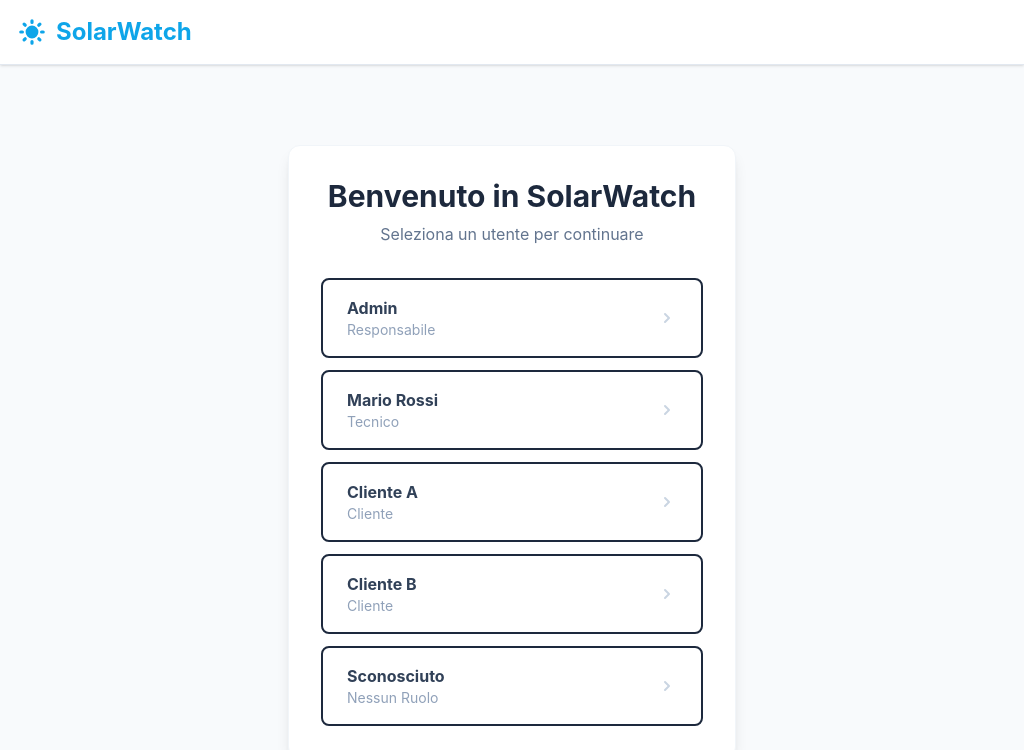
Test: SolarWatch QA Test › Esegue il login come Responsabile e visualizza la dashboard
The image size is (1024, 750).
Check: the heading "Benvenuto in SolarWatch" is shown, box [321,178,703,214]
Note: Trova l'utente Admin (id: 1) e clicca per fare login
Click the button with test id "login-user-1".
click(372, 308)  # box [321,278,703,358]
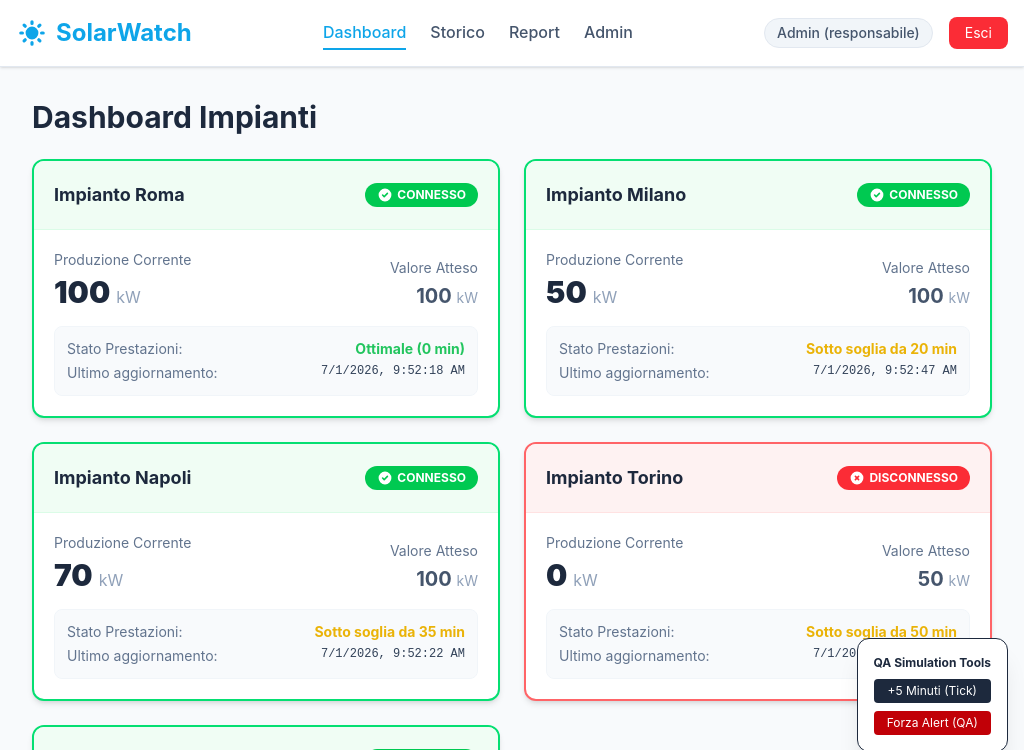
Check: the link "Dashboard" is shown, box [323,16,406,50]
Check: the link "Storico" is shown, box [430,22,485,42]
Check: the link "Report" is shown, box [509,22,560,42]
Note: Usa il tool QA deterministico per forzare un alert senza dipendere da tick casuali
Click the button with test id "force-alert-btn".
click(933, 723)  # box [874,711,992,735]
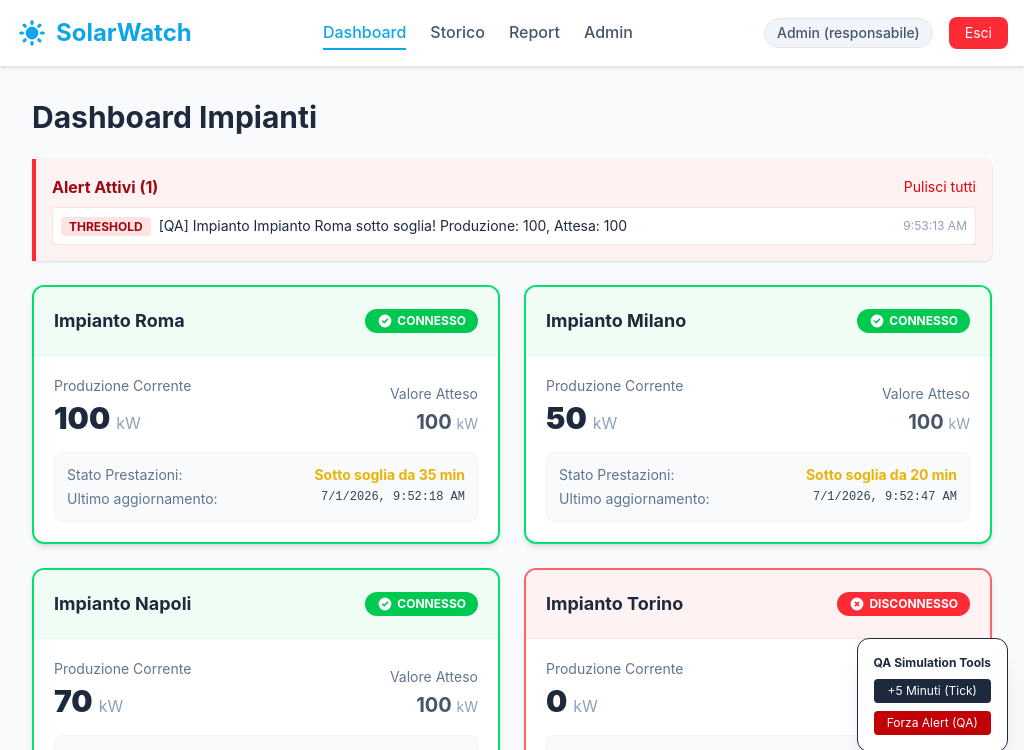
Check: the element with test id "alerts-panel" is shown, box [32,159,992,261]
